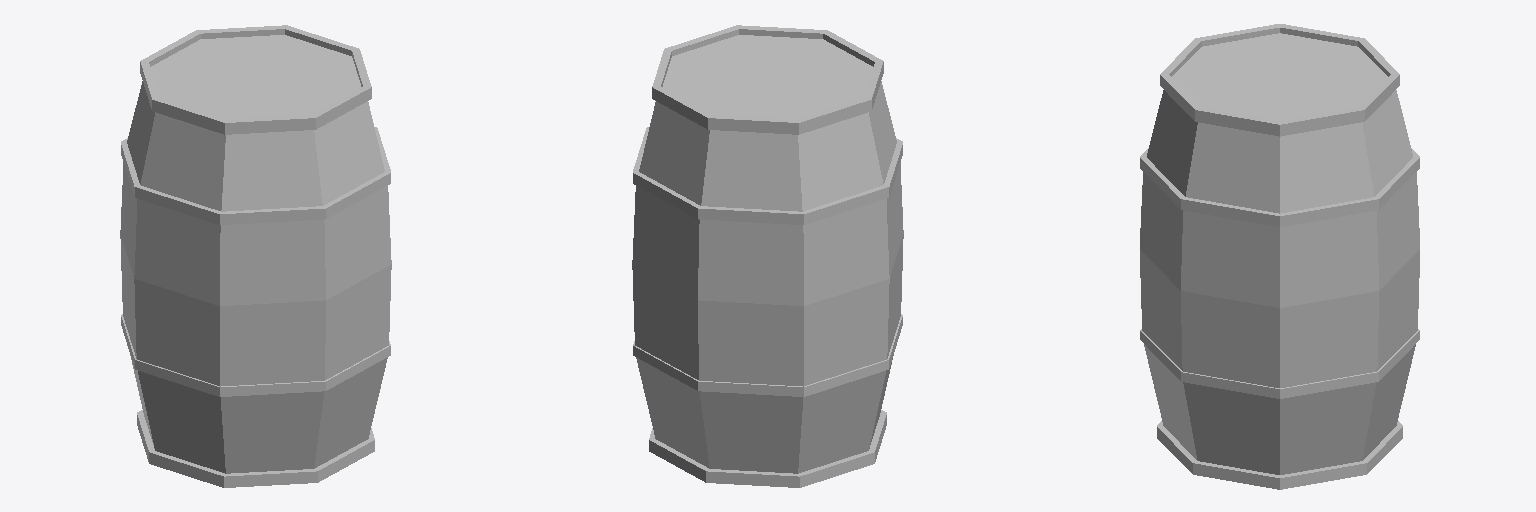
The model's file is Barrel.obj.
3 renders of one model, left to right at view 1: azimuth 30°, elevation 25°; view 2: azimuth 150°, elevation 25°; view 3: azimuth 270°, elevation 25°, orthographic.
Visible parts, largest first — view 1: Circle_Circle.001; view 2: Circle_Circle.001; view 3: Circle_Circle.001.
Part boxes in pixels (bbox=[...]): Circle_Circle.001: bbox=[120, 25, 391, 487]; Circle_Circle.001: bbox=[632, 25, 903, 487]; Circle_Circle.001: bbox=[1140, 24, 1419, 489].
Bounding box in the file's own units: 2.03 × 2.9 × 2.03.